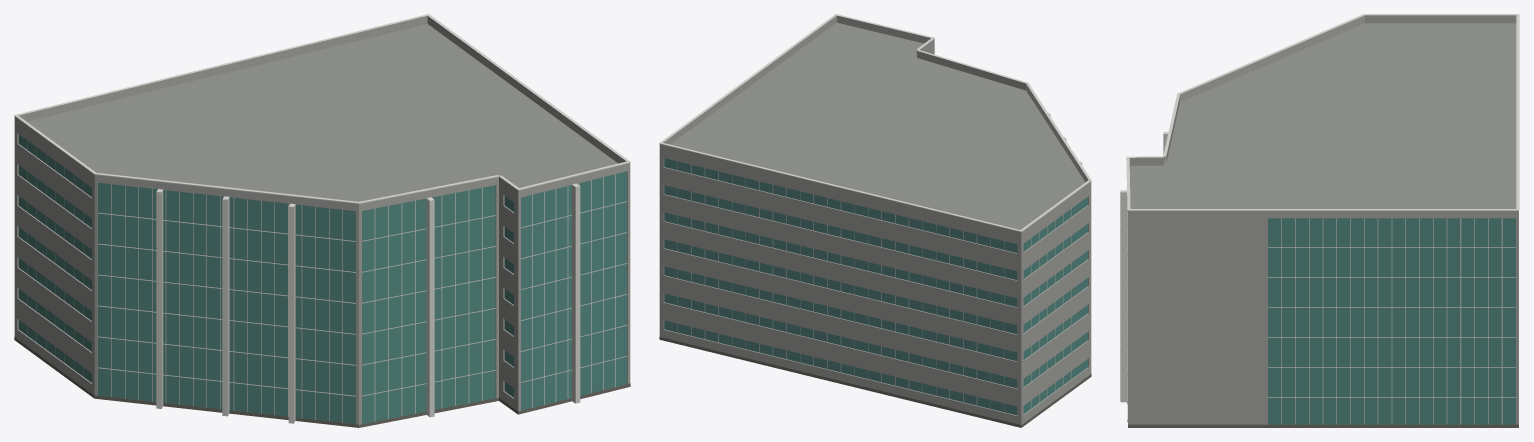
3 views of the same model, side by side, from view 1: azimuth 30°, elevation 25°; view 2: azimuth 150°, elevation 25°; view 3: azimuth 270°, elevation 25° (orthographic). The views are drawn at different scales.
Parts seen in each view (by area): view 1: biomedical__glass, biomedical__roof, biomedical__wall, biomedical__trim, biomedical__frame, biomedical__parapet, biomedical__base; view 2: biomedical__wall, biomedical__roof, biomedical__glass, biomedical__parapet, biomedical__trim, biomedical__frame, biomedical__base; view 3: biomedical__roof, biomedical__glass, biomedical__wall, biomedical__parapet, biomedical__frame, biomedical__trim, biomedical__base.
Part boxes in pixels (x1,y1,x2,y2): biomedical__glass: (18,134,626,424); biomedical__roof: (27,24,617,201); biomedical__wall: (14,123,630,427); biomedical__trim: (14,14,630,423); biomedical__frame: (27,140,626,422); biomedical__parapet: (14,16,630,210); biomedical__base: (14,337,630,427); biomedical__wall: (659,45,1091,427); biomedical__roof: (670,22,1085,229); biomedical__glass: (664,158,1087,415); biomedical__parapet: (659,15,1091,238); biomedical__trim: (659,14,1091,232); biomedical__frame: (677,162,1071,411); biomedical__base: (659,337,1091,427); biomedical__roof: (1129,23,1516,208); biomedical__glass: (1268,218,1515,424); biomedical__wall: (1127,210,1518,424); biomedical__parapet: (1127,15,1518,217); biomedical__frame: (1281,218,1502,424); biomedical__trim: (1120,14,1519,402); biomedical__base: (1127,401,1518,427).
Size of the model in its own units: 53.31 by 27.62 by 45.82.
